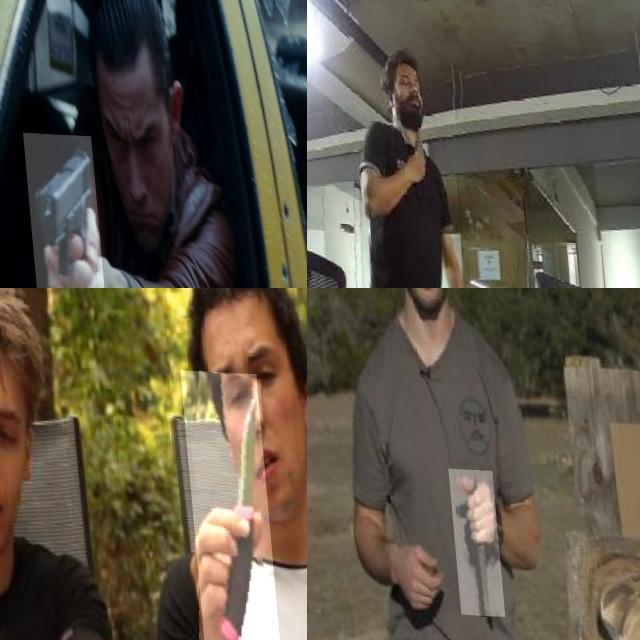-: (177, 366, 273, 640), (442, 466, 497, 614)
gun-knife-thesis - v11 Yolov5 augmented: (19, 130, 102, 288)
